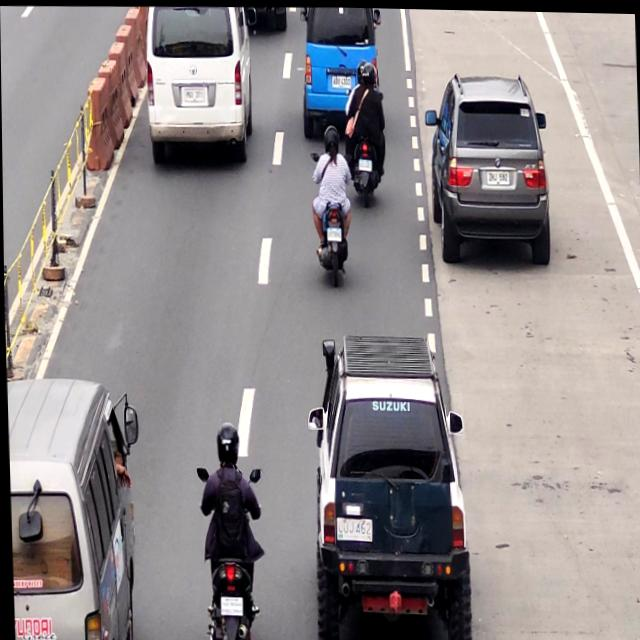Car: (305, 329, 469, 640), (5, 375, 139, 640), (425, 69, 548, 265), (146, 4, 252, 163), (294, 5, 383, 117)
License-Plate: (334, 514, 371, 539), (219, 592, 241, 616), (330, 70, 352, 90), (486, 168, 510, 184), (183, 86, 205, 102), (325, 226, 343, 239), (357, 156, 372, 170)
Motorcycle: (192, 415, 263, 640), (314, 124, 353, 282), (344, 57, 384, 198)
